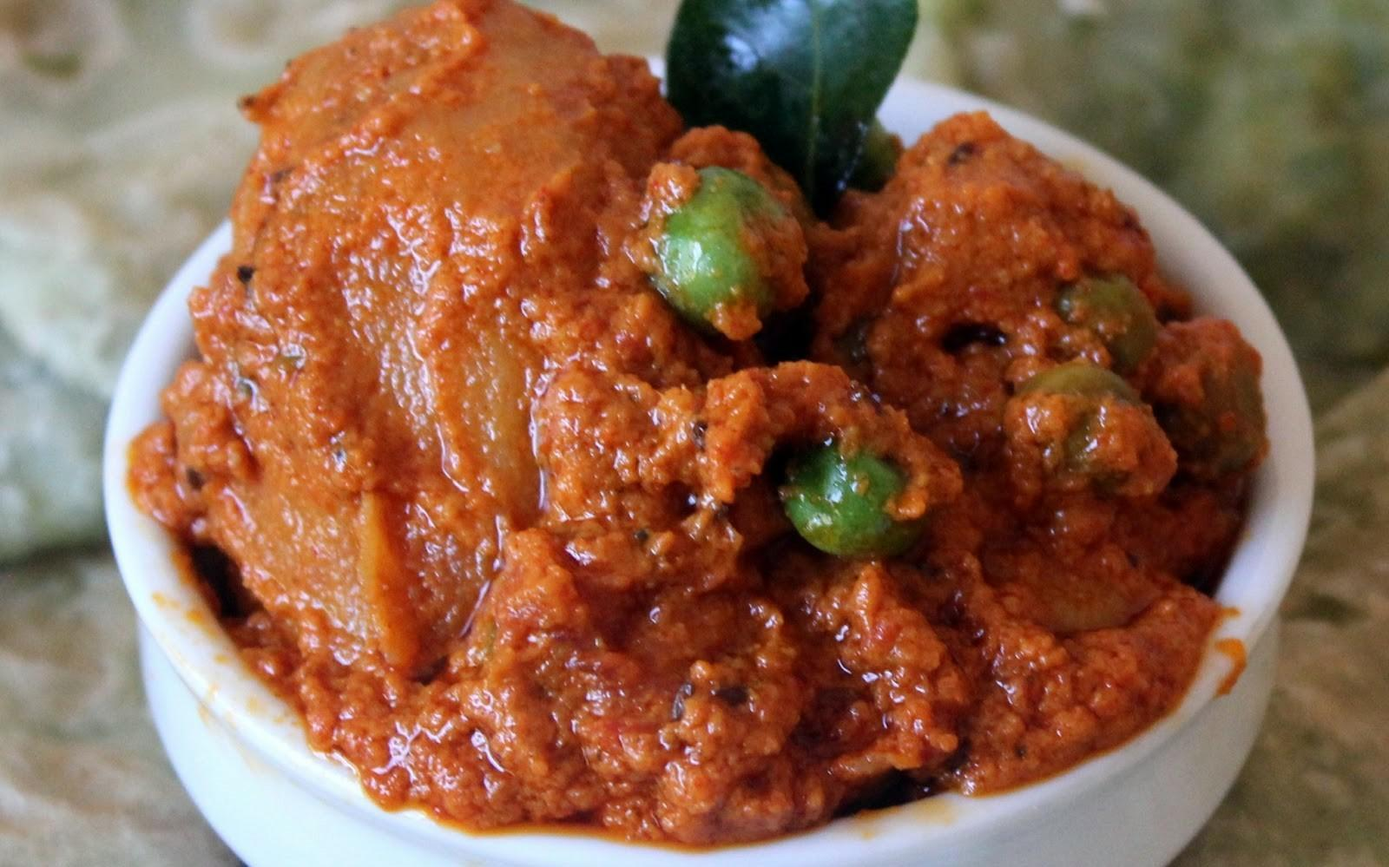DumAloo: (122, 0, 1270, 852)
